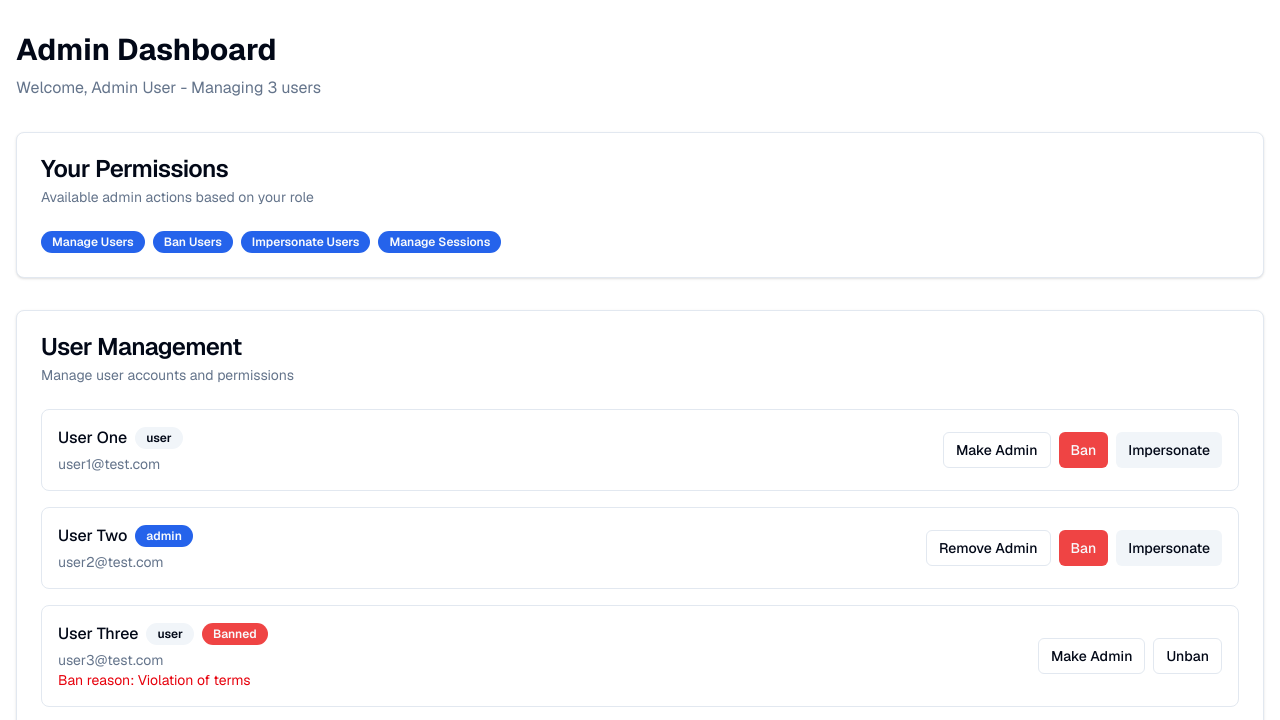
Scenario: AdminDashboard › UI State Updates › should update UI when user is unbanned successfully
Click the button "Unban". click: coordinates (1188, 656)
box: top-left (1153, 638), bottom-right (1222, 674)
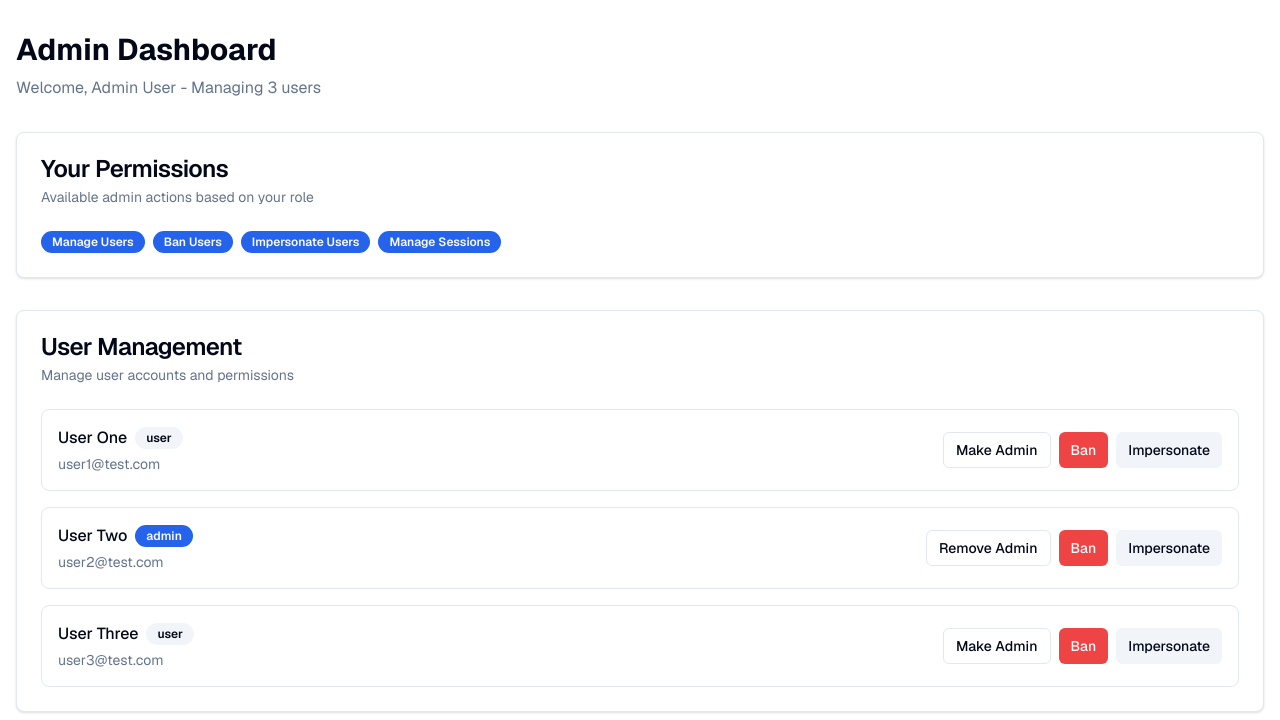
Expected: the text "Ban reason: Violation of terms" is gone
